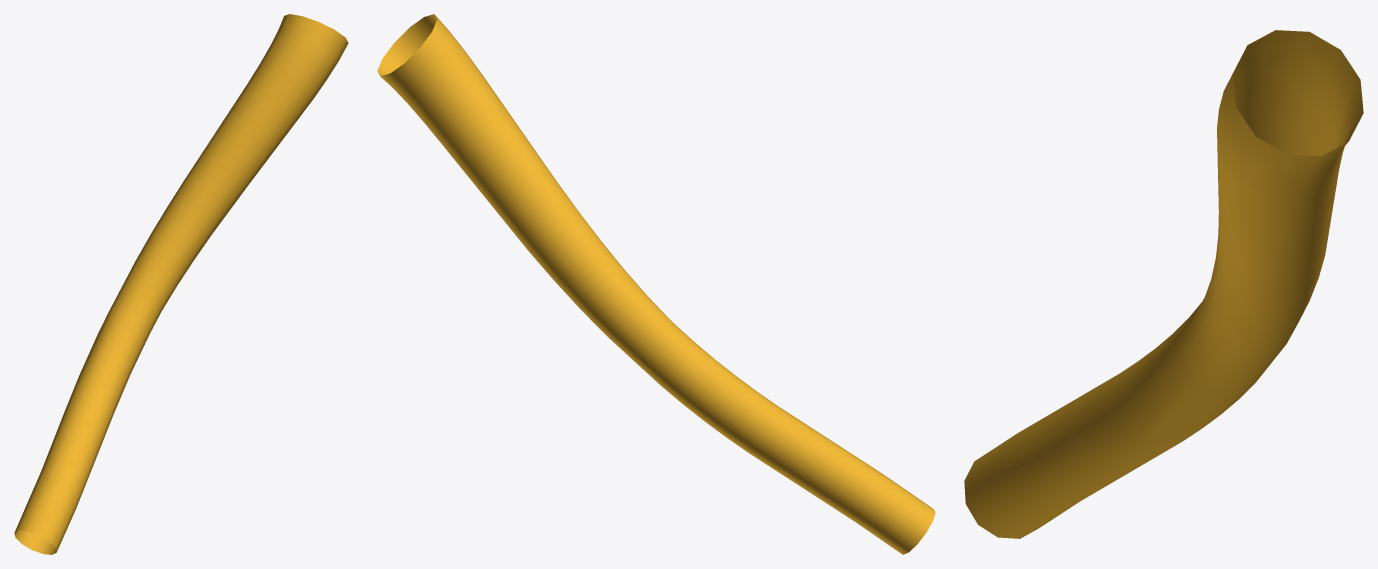
Rendered from nervoso-anterior-division-of-inferior-trunk-of-brachial-plexus-r.glb.
The picture shows the model from 3 angles, left to right: view 1: azimuth 30°, elevation 25°; view 2: azimuth 150°, elevation 25°; view 3: azimuth 270°, elevation 25°; orthographic projection. The views are drawn at different scales.
Parts seen in each view (by area): view 1: Anterior division of inferior trunk of brachial plexus.r; view 2: Anterior division of inferior trunk of brachial plexus.r; view 3: Anterior division of inferior trunk of brachial plexus.r.
Part boxes in pixels (x1=…): Anterior division of inferior trunk of brachial plexus.r: x1=14, y1=14, x2=348, y2=554; Anterior division of inferior trunk of brachial plexus.r: x1=377, y1=14, x2=935, y2=554; Anterior division of inferior trunk of brachial plexus.r: x1=964, y1=30, x2=1363, y2=538.
Size of the model in its own units: 0.0194 by 0.0195 by 0.00856.
